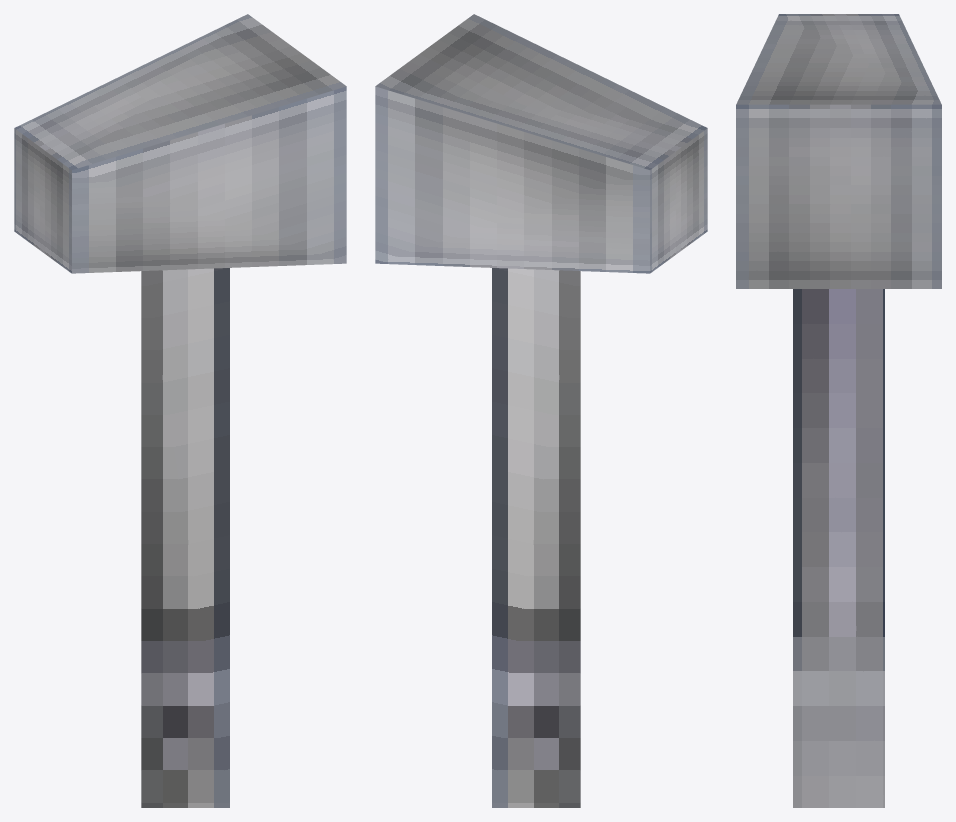
3 views of the same model, side by side, from view 1: azimuth 30°, elevation 25°; view 2: azimuth 150°, elevation 25°; view 3: azimuth 270°, elevation 25° (orthographic). The views are drawn at different scales.
Parts seen in each view (by area): view 1: Object02; view 2: Object02; view 3: Object02.
Part boxes in pixels (x1,y1,x2,y2): Object02: (14, 14, 346, 807); Object02: (375, 14, 707, 807); Object02: (736, 14, 941, 807).
Size of the model in its own units: 34.15 by 92.34 by 22.99.
1 material, 1 textured.
